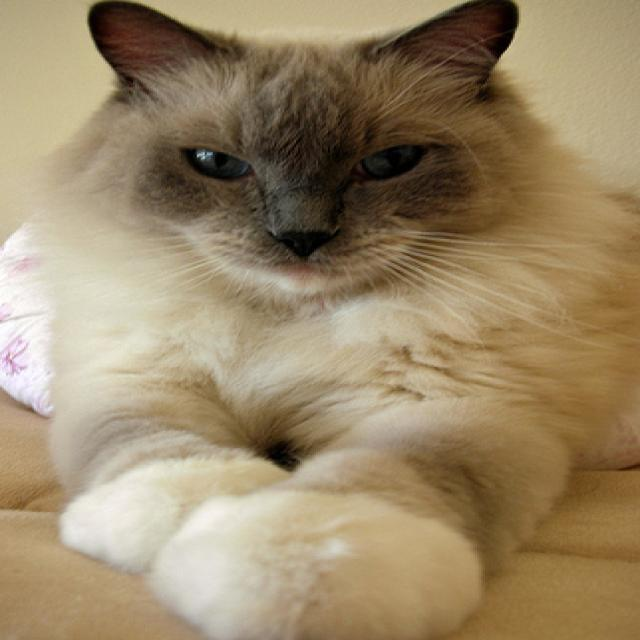Ragdoll: (22, 0, 640, 640)
